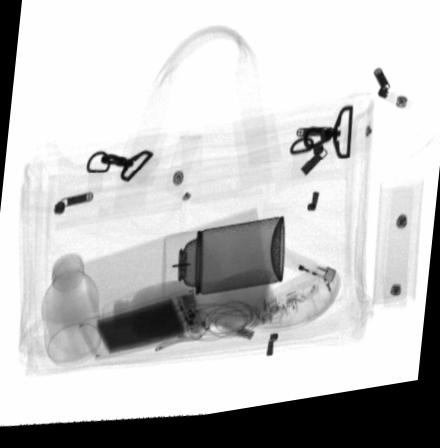Lighter: (275, 255, 338, 302)
Powerbank: (77, 294, 207, 363)
Sprayer: (161, 225, 285, 304)
